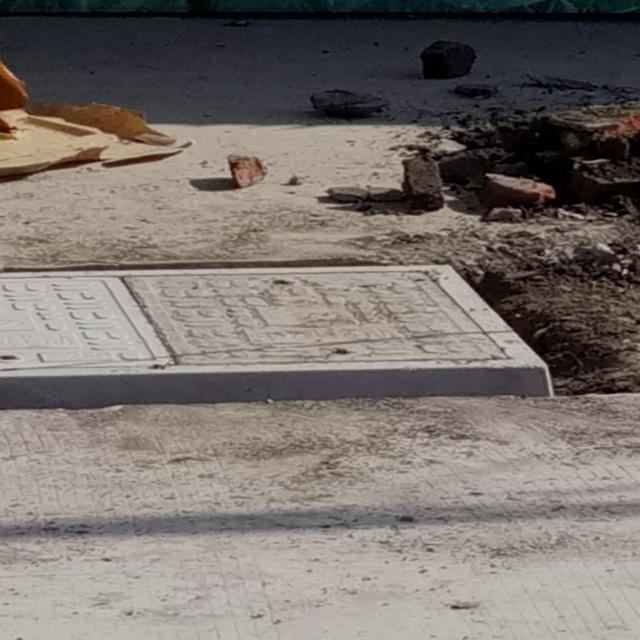good: (0, 264, 545, 383)
